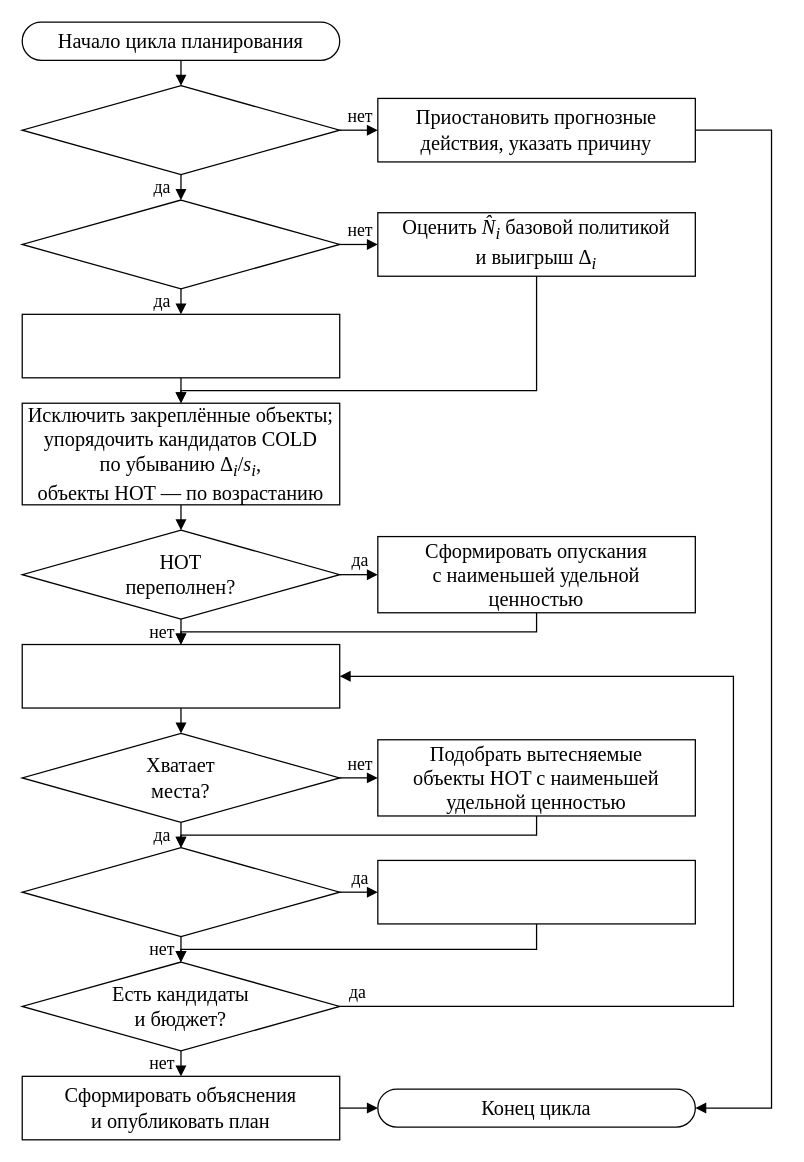
The diagram is 804 pixels wide and 1162 high, and some of its shapes have lost their labels. Here are the shapes that lost their labels. From the top down, the box of each, then its label:
(21, 84, 340, 175): Данные актуальны?
(21, 199, 340, 289): Модель пригодна?
(21, 313, 340, 378): Оценить N̂ i и выигрыш Δ i для объектов
(21, 643, 340, 708): Взять следующего кандидата на вход в HOT
(21, 846, 340, 937): Набор выгоден и допустим?
(377, 859, 695, 924): Добавить действия и зависимости в план, уменьшить бюджет
